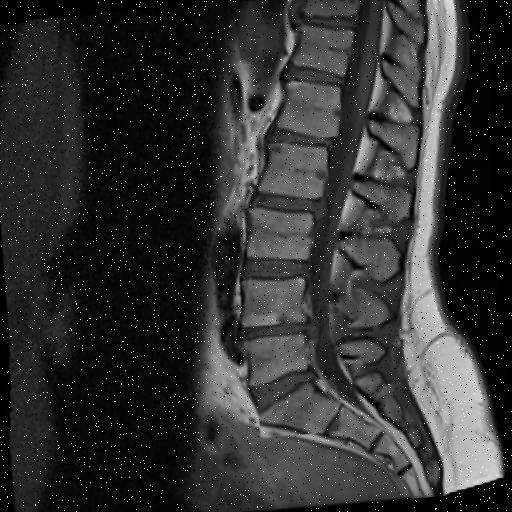L1: (278, 82, 342, 138)
L2: (259, 144, 328, 199)
L3: (248, 209, 313, 260)
L4: (245, 278, 306, 327)
L5: (245, 335, 308, 385)
S1: (260, 381, 340, 434)
